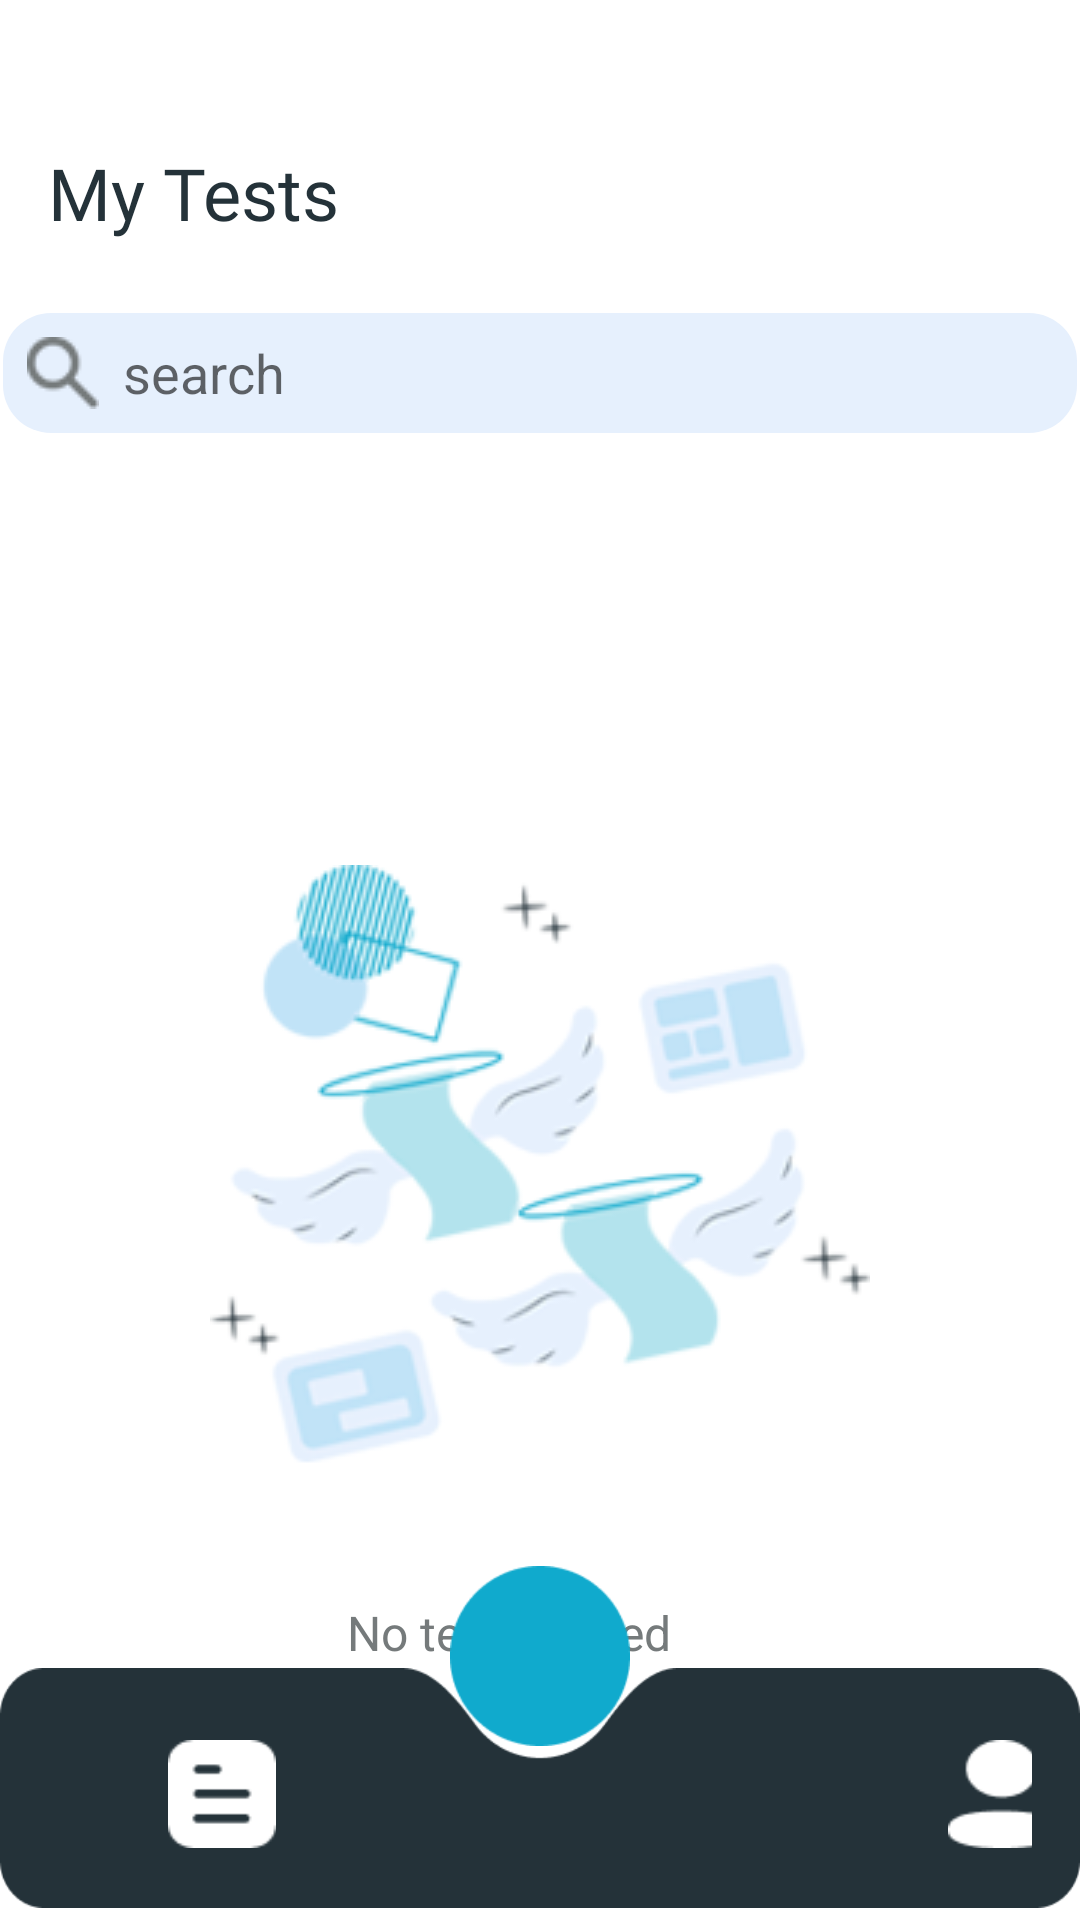

Named icons in this screenshot (1080 x 1920) and their centers, [x,y]:
list: [222,1794]
profileimg: [990,1794]
